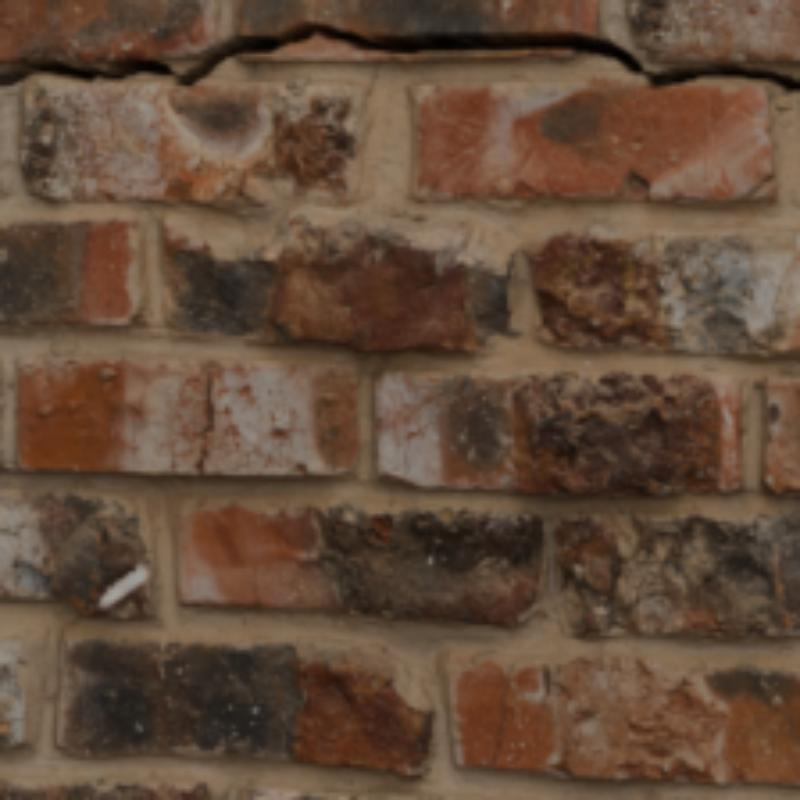crack: (3, 23, 799, 91), (200, 375, 214, 471)
